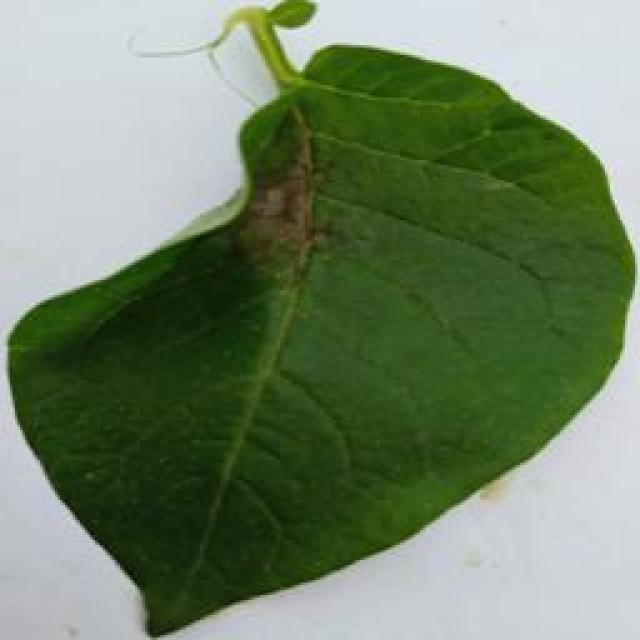Potato_Late_Blight: (12, 7, 640, 626)
